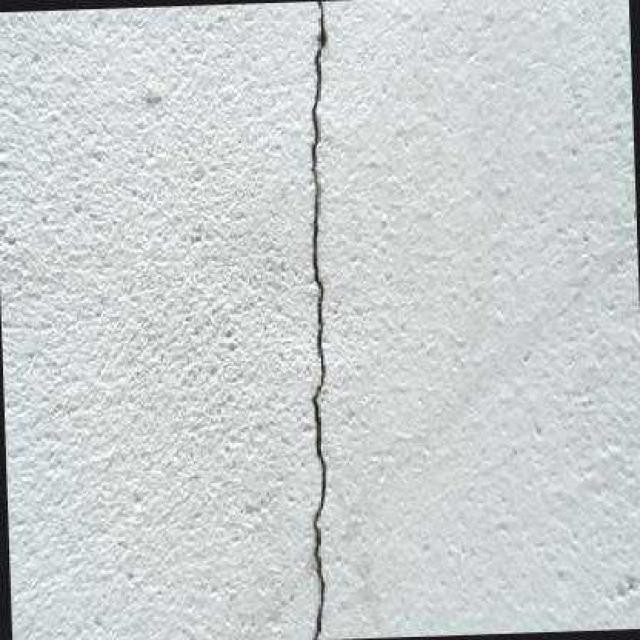D00: (308, 0, 328, 640)
